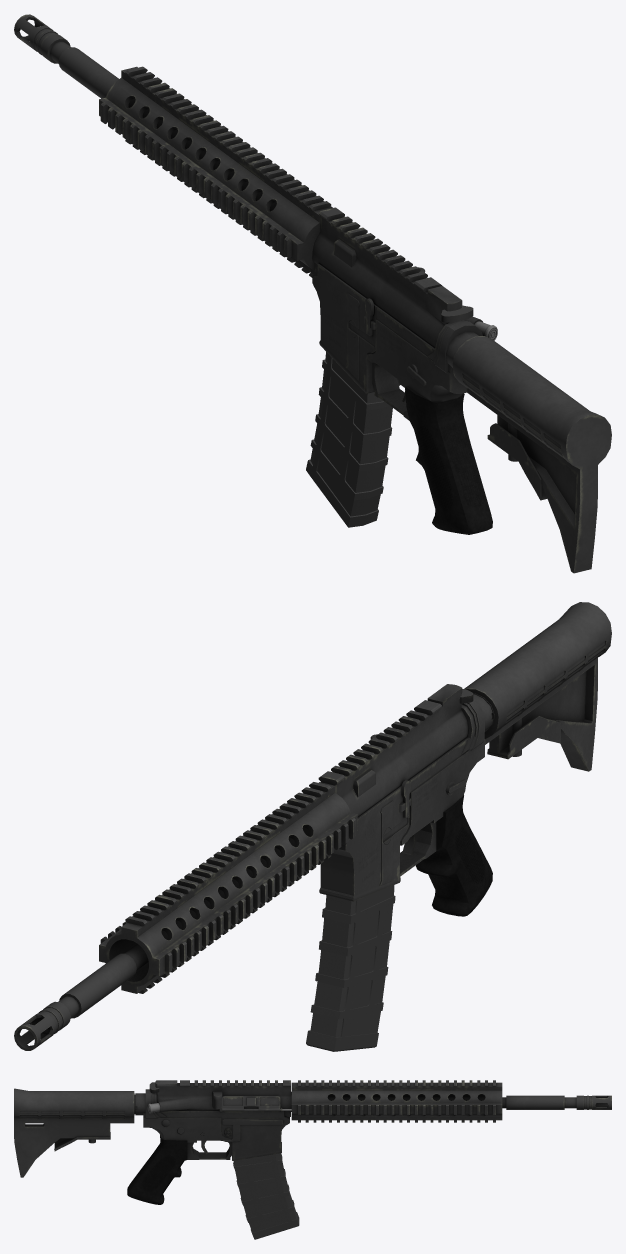
Rendered from m4_carbine.glb.
3 renders of one model, top to bottom at view 1: azimuth 30°, elevation 25°; view 2: azimuth 150°, elevation 25°; view 3: azimuth 270°, elevation 25°, orthographic. The views are drawn at different scales.
Bounding box in the file's own units: 0.0619 × 0.2386 × 0.838.
Materials: 3 (3 with a texture image).
